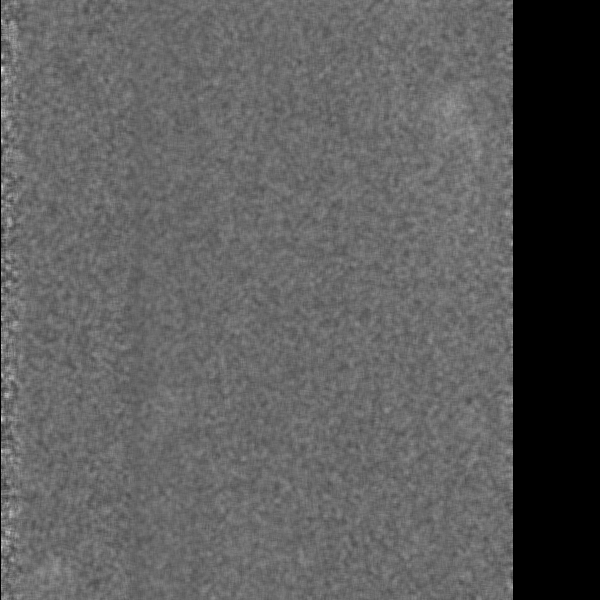spark: (437, 88, 457, 139)
